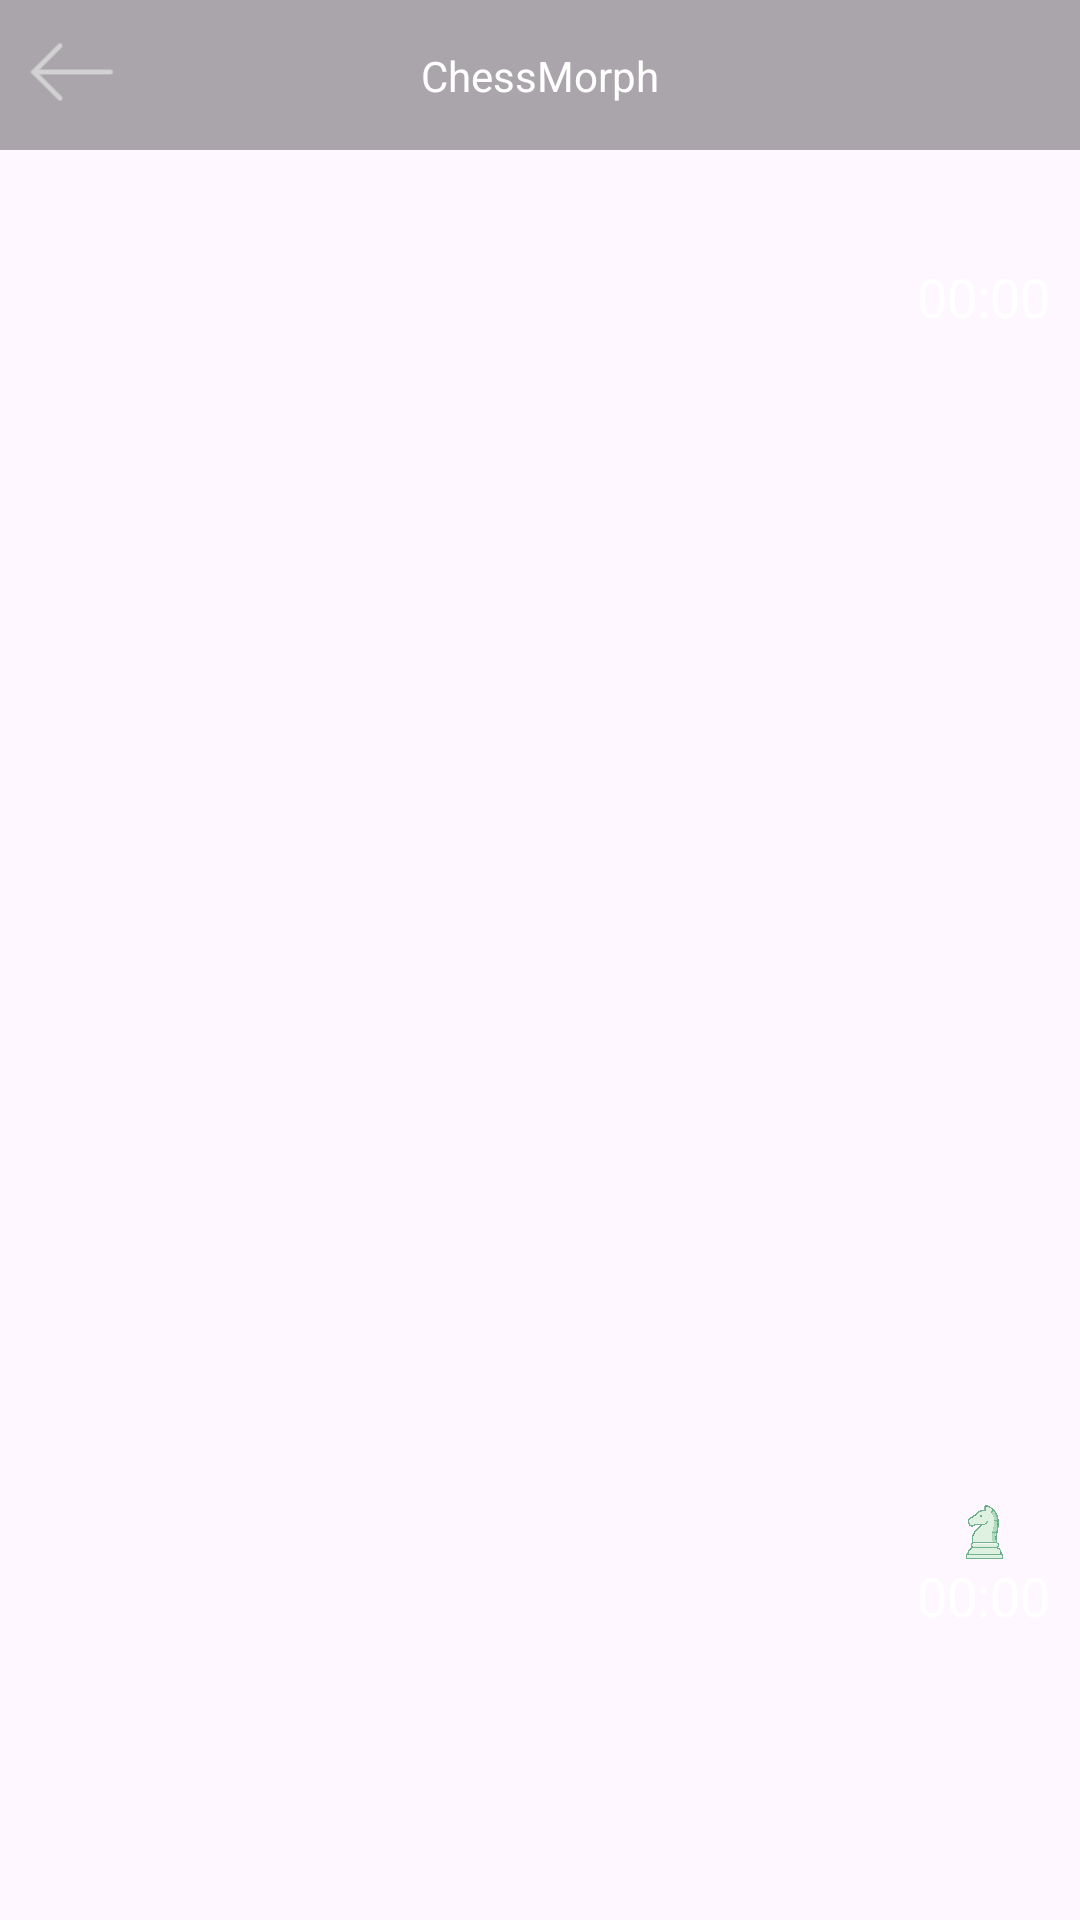

Named icons in this screenshot (1080 x 1920) and their bounding boxes, (x1, y1, x2, y2):
backbutton: (31, 43, 113, 101)
good horse: (966, 1505, 1003, 1559)
